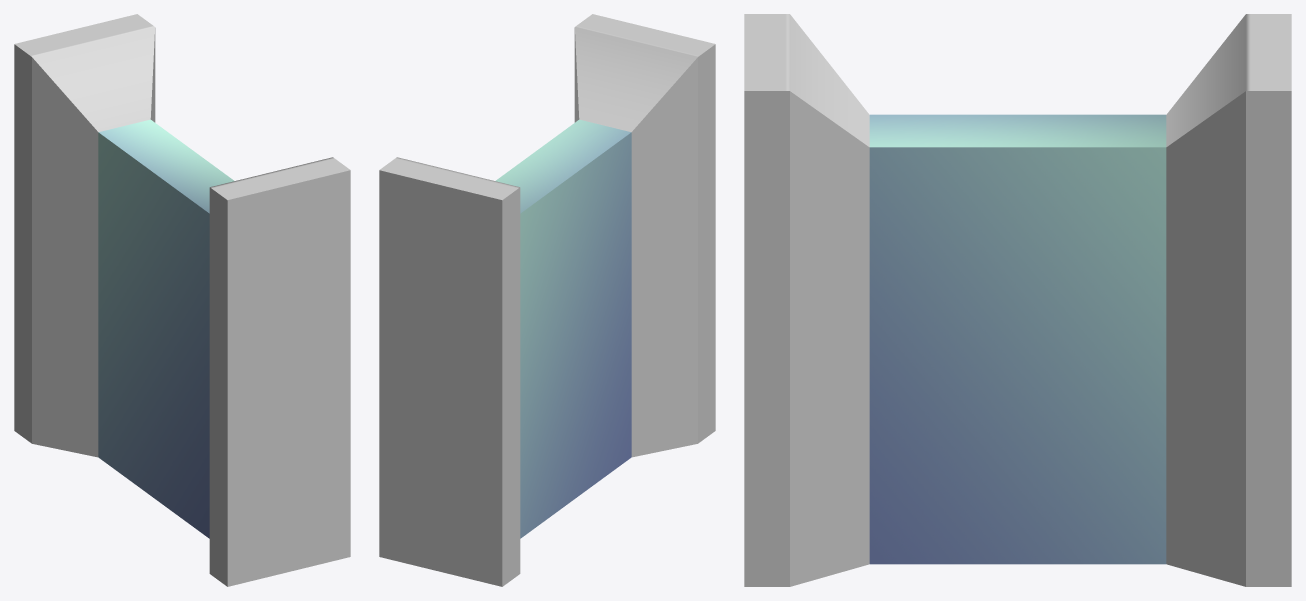
Rendered from building_wall.fbx.
The picture shows the model from 3 angles, left to right: view 1: azimuth 30°, elevation 25°; view 2: azimuth 150°, elevation 25°; view 3: azimuth 270°, elevation 25°; orthographic projection. The views are drawn at different scales.
Parts seen in each view (by area): view 1: Wall; view 2: Wall; view 3: Wall.
Boxes of the visible parts, left/top/right/bottom form: Wall: left=14, top=14, right=350, bottom=586; Wall: left=379, top=14, right=715, bottom=586; Wall: left=744, top=14, right=1291, bottom=586.
Size of the model in its own units: 4 by 12 by 12.
Materials: 1 (1 with a texture image).
